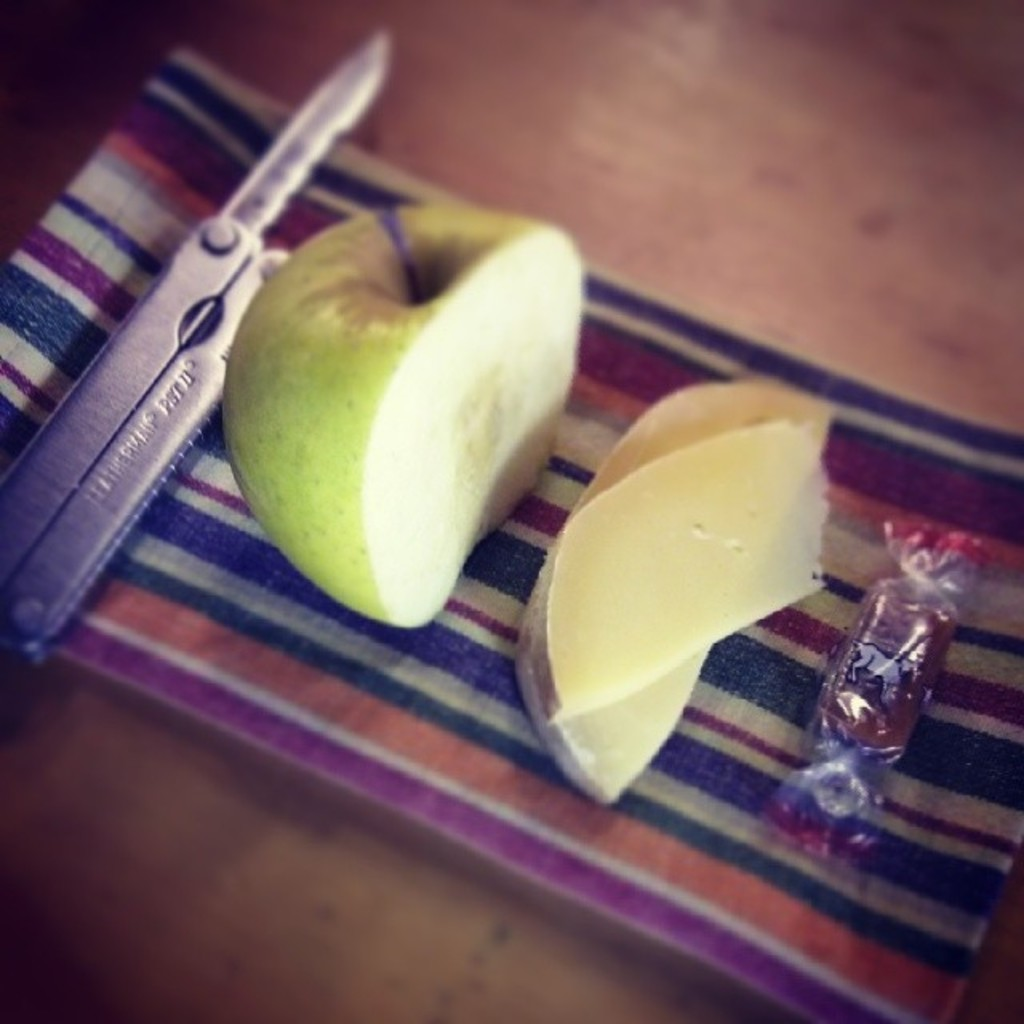Apple: (217, 192, 580, 659)
